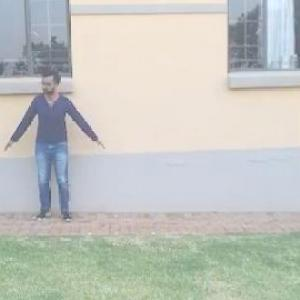land: (13, 61, 119, 239)
